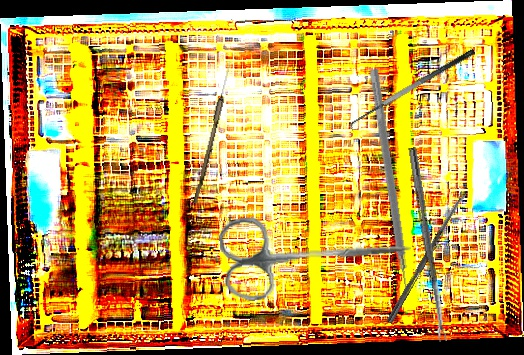Iris Scissors: (217, 203, 415, 304)
Spatula Surgical: (359, 67, 416, 306), (345, 48, 482, 135)
Surgical Spoon: (386, 190, 468, 325), (407, 147, 447, 342), (193, 60, 233, 205)
